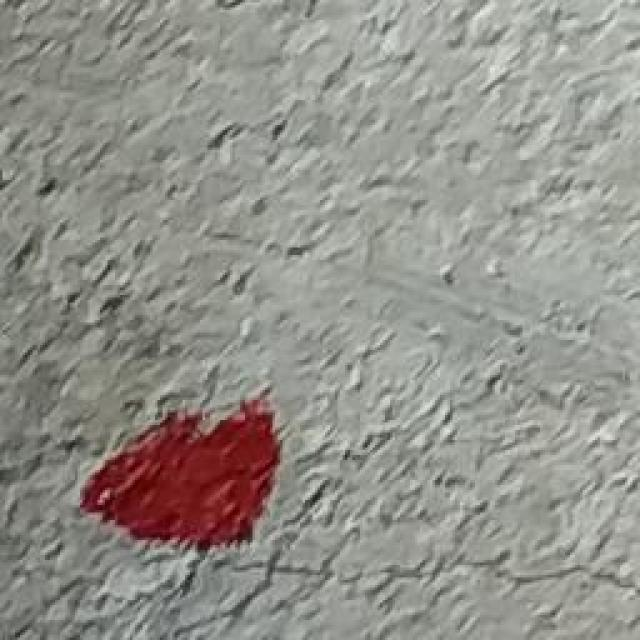Transverse: (16, 546, 640, 640)
